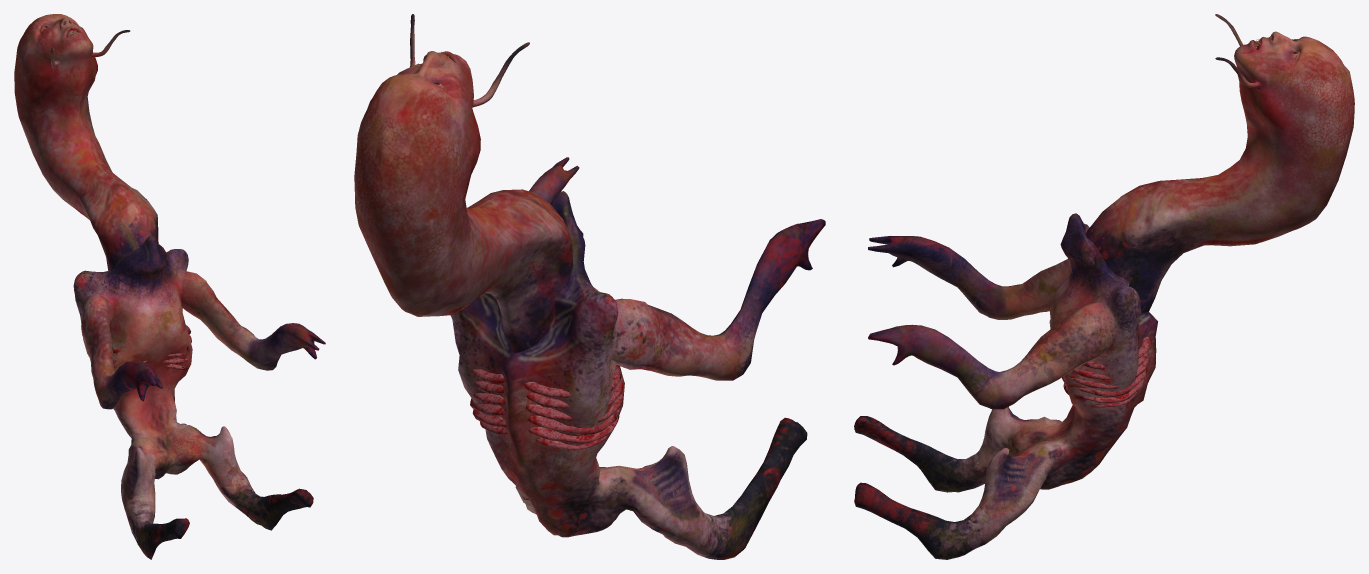
File: cry-wolf-game-character.fbx
3 renders of one model, left to right at view 1: azimuth 30°, elevation 25°; view 2: azimuth 150°, elevation 25°; view 3: azimuth 270°, elevation 25°, orthographic. The views are drawn at different scales.
Visible parts, largest first — view 1: Cry Wolf.001_Cry Wolf Main_0, Cry Wolf_Cry Wolf SEC_0; view 2: Cry Wolf.001_Cry Wolf Main_0, Cry Wolf_Cry Wolf SEC_0; view 3: Cry Wolf.001_Cry Wolf Main_0, Cry Wolf_Cry Wolf SEC_0.
Part boxes in pixels (<box>): Cry Wolf.001_Cry Wolf Main_0: <box>14,14,325,559</box>; Cry Wolf_Cry Wolf SEC_0: <box>42,26,191,369</box>; Cry Wolf.001_Cry Wolf Main_0: <box>354,14,825,559</box>; Cry Wolf_Cry Wolf SEC_0: <box>402,51,623,450</box>; Cry Wolf.001_Cry Wolf Main_0: <box>854,14,1354,559</box>; Cry Wolf_Cry Wolf SEC_0: <box>1062,39,1296,407</box>.
Size of the model in its own units: 2362342 by 5405272 by 4965074.
Materials: 2 (2 with a texture image).
